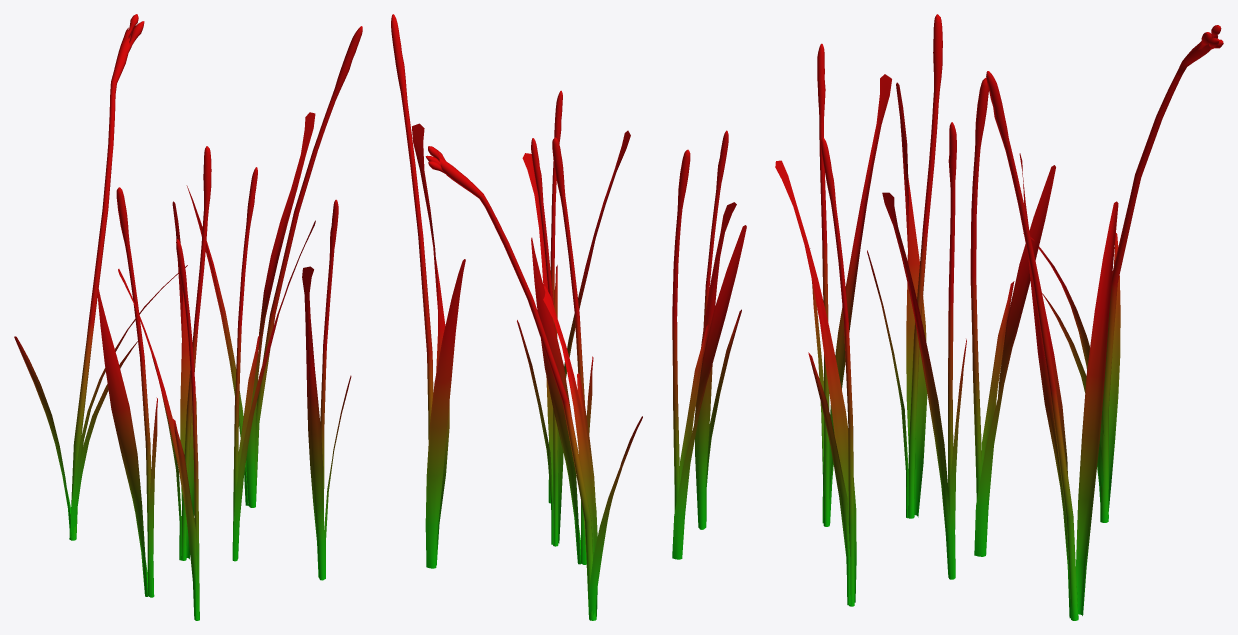
File: Rush Daffodil_LOD1_Var20_wftgfjaia.fbx
3 renders of one model, left to right at view 1: azimuth 30°, elevation 25°; view 2: azimuth 150°, elevation 25°; view 3: azimuth 270°, elevation 25°, orthographic. The views are drawn at different scales.
Parts seen in each view (by area): view 1: _rvso_var20_LOD1; view 2: _rvso_var20_LOD1; view 3: _rvso_var20_LOD1.
Part boxes in pixels (x1,y1,x2,y2): _rvso_var20_LOD1: (14, 14, 362, 620); _rvso_var20_LOD1: (391, 14, 746, 620); _rvso_var20_LOD1: (775, 14, 1223, 620).
Bounding box in the file's own units: 21.03 × 32.35 × 22.18.
